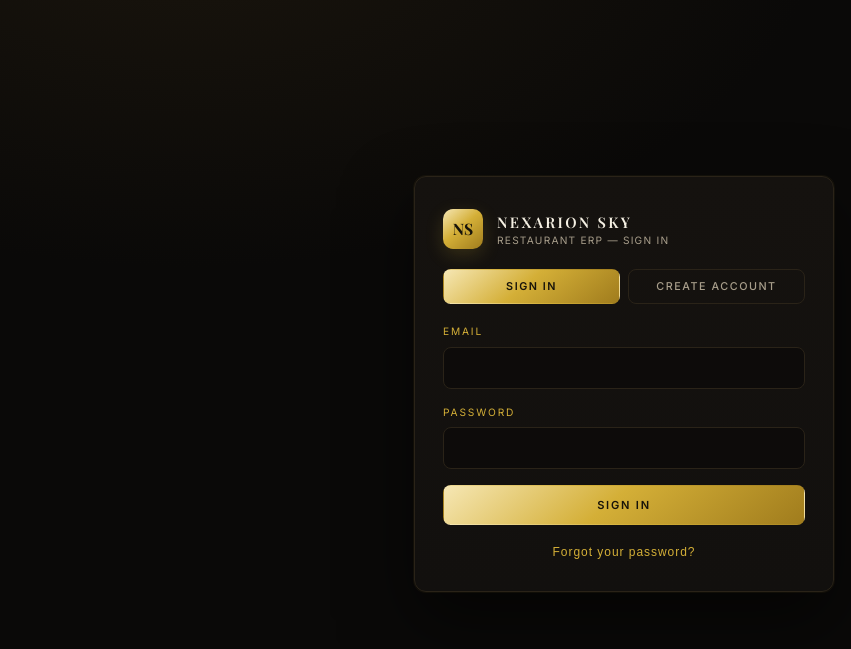
LoginPage › offers account creation and reveals the full-name field
The image size is (851, 649).
What coordinates should you click on to do the following:
click the button "Create account"
I would click on:
 (716, 287)
Its box is [628,269,805,304].
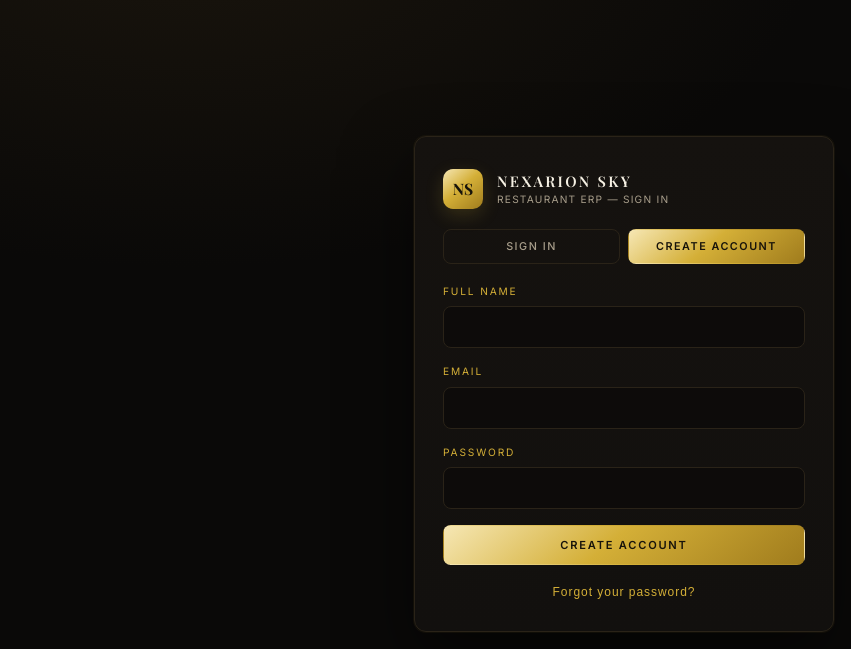
expect the field labelled "Full name" is shown: met, box [443,306,805,348]
